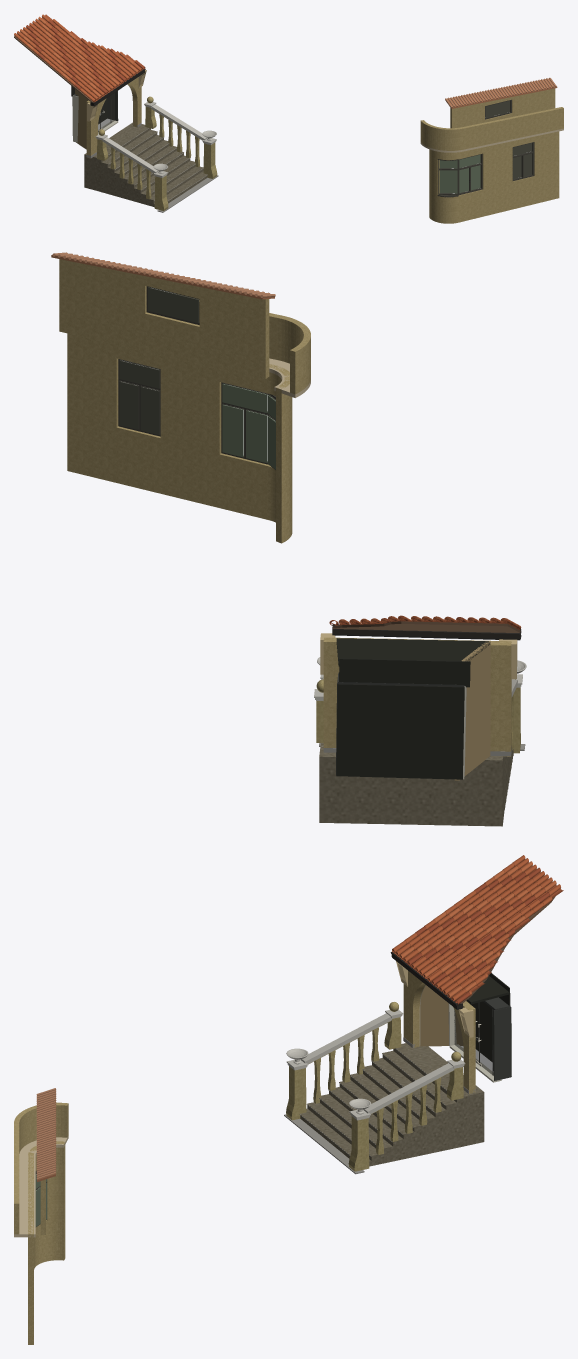
File: full-source.glb
3 renders of one model, top to bottom at view 1: azimuth 30°, elevation 25°; view 2: azimuth 150°, elevation 25°; view 3: azimuth 270°, elevation 25°, orthographic. The views are drawn at different scales.
Parts seen in each view (by area): view 1: 长乐路325号院内弧窗与红瓦券廊; view 2: 长乐路325号院内弧窗与红瓦券廊; view 3: 长乐路325号院内弧窗与红瓦券廊.
Boxes of the visible parts, x1,y1,x2,y2 form: 长乐路325号院内弧窗与红瓦券廊: [14, 14, 563, 223]; 长乐路325号院内弧窗与红瓦券廊: [51, 252, 526, 826]; 长乐路325号院内弧窗与红瓦券廊: [14, 855, 563, 1344].
Bounding box in the file's own units: 20.39 × 7.07 × 16.78.
Materials: 30 (3 with a texture image).
